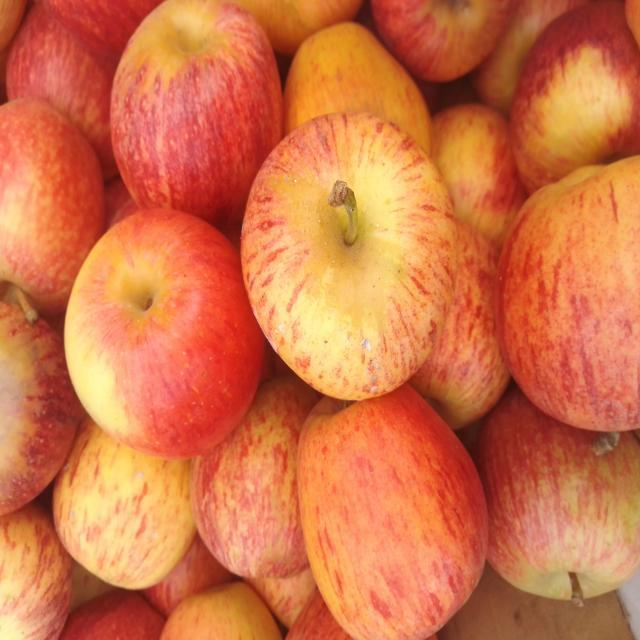Fresh Apple: (237, 126, 458, 396), (294, 393, 496, 640), (60, 210, 260, 448), (108, 3, 287, 228), (501, 180, 640, 440), (476, 406, 640, 613), (46, 428, 202, 585), (0, 108, 101, 288)
